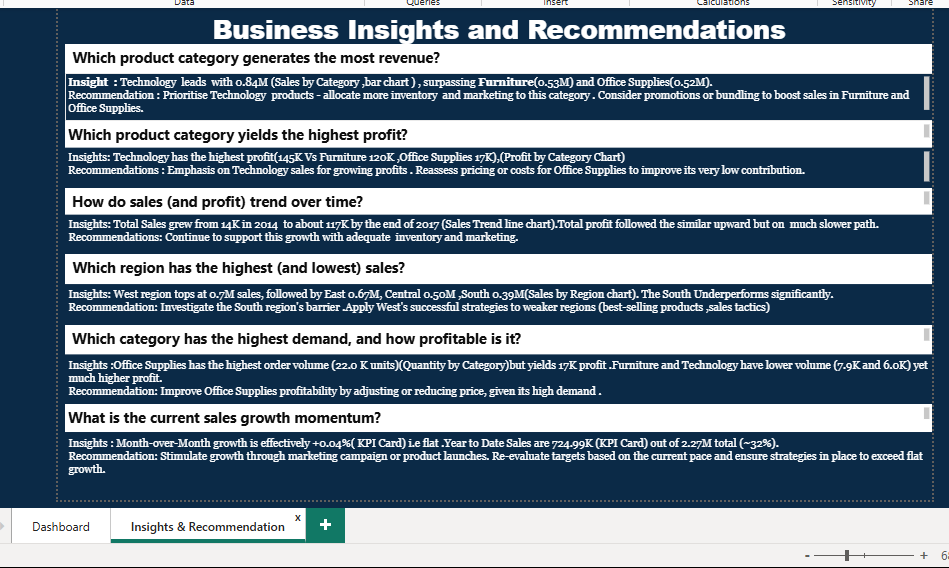

Layout of this report page (visuals, bound fields, positions):
{"tool":"powerbi","page":{"name":"Insights & Recommendation","canvas":[1280,720],"ordinal":1},"visuals":[{"type":"textbox","box":[10.2,0,1270.2,86.3],"z":0},{"type":"textbox","box":[10,52.9,1270,42.9],"z":1000},{"type":"textbox","box":[10,95.7,1270,70],"z":2000},{"type":"textbox","box":[10,165.7,1270,38.6],"z":3000},{"type":"textbox","box":[10,204.3,1270,58.6],"z":4000},{"type":"textbox","box":[10,262.9,1270,38.6],"z":5000},{"type":"textbox","box":[10,301.4,1270,58.6],"z":6000},{"type":"textbox","box":[10,360,1270,44.3],"z":7000},{"type":"textbox","box":[10,404.3,1270,60],"z":8000},{"type":"textbox","box":[10,464.3,1270,42.9],"z":9000},{"type":"textbox","box":[10,507.1,1270,72.9],"z":10000},{"type":"textbox","box":[10,580,1270,41.4],"z":11000},{"type":"textbox","box":[10,621.4,1270,87.1],"z":12000}]}

Visuals, with their boxes on the page's 1280x720 design canvas (x1, y1, x2, y2). These are canvas units, not pixel positions in the 949x568 screenshot, which may show the page scaled, cropped or inside an application window:
textbox: {"left": 10, "top": 0, "right": 1280, "bottom": 86}
textbox: {"left": 10, "top": 53, "right": 1280, "bottom": 96}
textbox: {"left": 10, "top": 96, "right": 1280, "bottom": 166}
textbox: {"left": 10, "top": 166, "right": 1280, "bottom": 204}
textbox: {"left": 10, "top": 204, "right": 1280, "bottom": 263}
textbox: {"left": 10, "top": 263, "right": 1280, "bottom": 302}
textbox: {"left": 10, "top": 301, "right": 1280, "bottom": 360}
textbox: {"left": 10, "top": 360, "right": 1280, "bottom": 404}
textbox: {"left": 10, "top": 404, "right": 1280, "bottom": 464}
textbox: {"left": 10, "top": 464, "right": 1280, "bottom": 507}
textbox: {"left": 10, "top": 507, "right": 1280, "bottom": 580}
textbox: {"left": 10, "top": 580, "right": 1280, "bottom": 621}
textbox: {"left": 10, "top": 621, "right": 1280, "bottom": 708}
